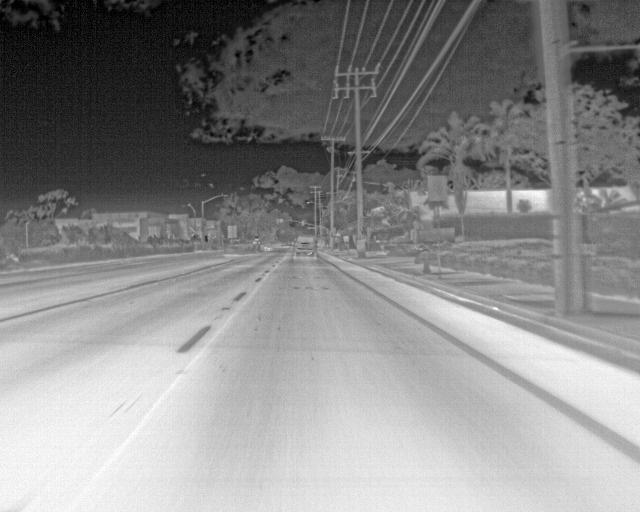car: (294, 240, 317, 258)
